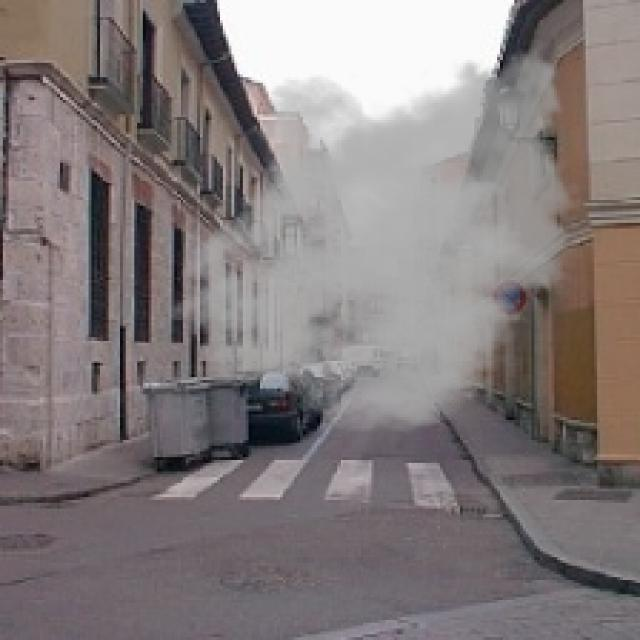smoke: (165, 34, 586, 434)
